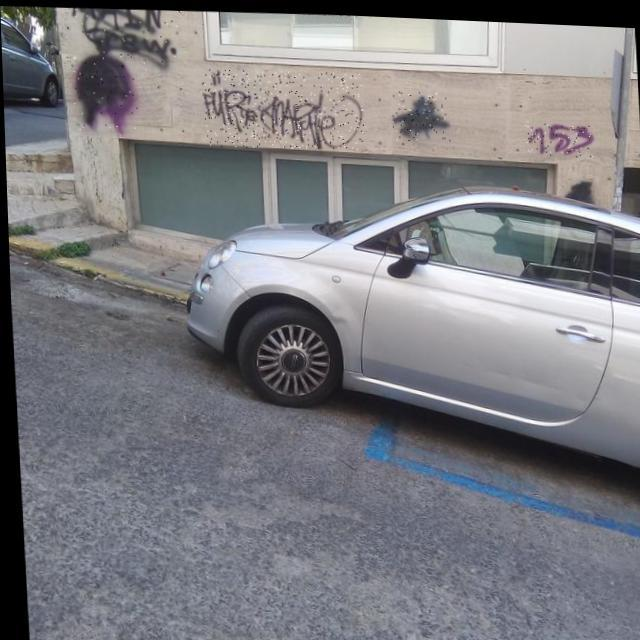-: (200, 64, 364, 150), (70, 5, 180, 71), (70, 49, 138, 133), (390, 86, 449, 138), (523, 115, 595, 153)
